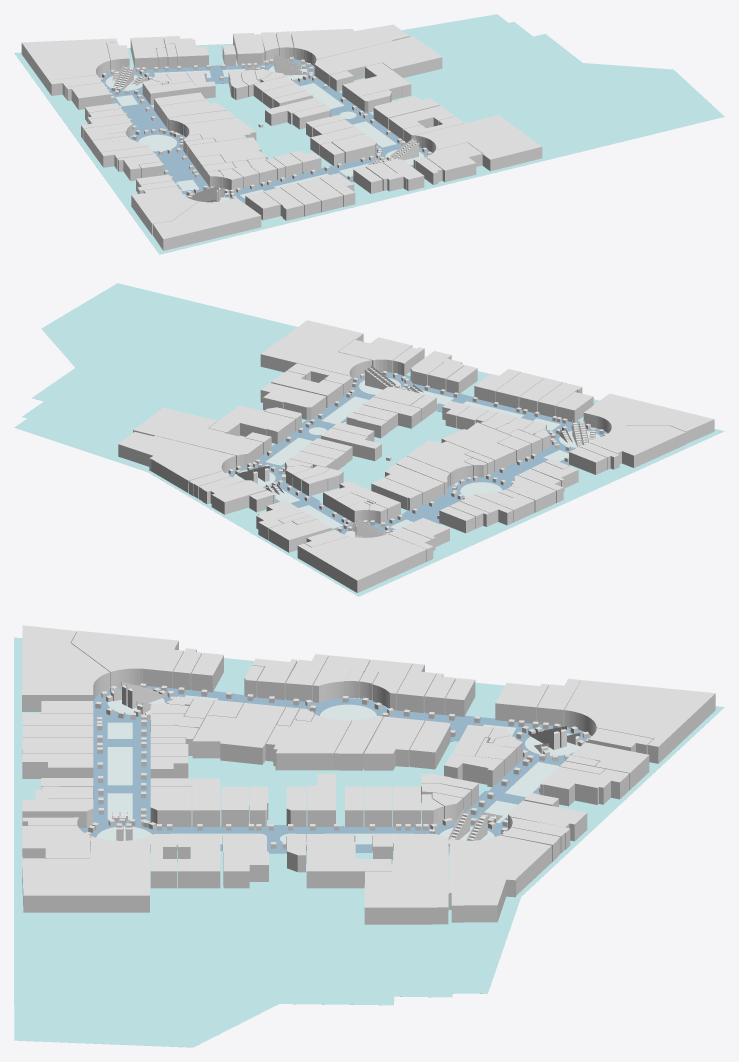
The model's file is PTA_01.gltf.
The picture shows the model from 3 angles, top to bottom: view 1: azimuth 30°, elevation 25°; view 2: azimuth 150°, elevation 25°; view 3: azimuth 270°, elevation 25°; orthographic projection. The views are drawn at different scales.
Parts seen in each view (by area): view 1: Floor, Walkable, Shop_01_P132, Shop_01_P147-148, Shop_01_P122-123, Shop_01_P109, Area, Shop_01_P121, Shop_01_P149-150, Shop_01_P125, Shop_01_P133, Shop_01_P242 (+45 smaller); view 2: Floor, Walkable, Shop_01_P109, Shop_01_P132, Shop_01_P121, Area, Shop_01_P122-123, Shop_01_P147-148, Shop_01_P149-150, Shop_01_P125, Shop_01_P242, Shop_01_P201 (+35 smaller); view 3: Floor, Walkable, Shop_01_P132, Shop_01_P109, Shop_01_P121, Shop_01_P122-123, Area, Shop_01_P147-148, Shop_01_P149-150, Shop_01_P242, Shop_01_P201, Shop_01_P125 (+47 smaller).
Part boxes in pixels (left/top/right/bottom): Floor: left=14, top=14, right=724, bottom=254; Walkable: left=99, top=59, right=432, bottom=203; Shop_01_P132: left=415, top=115, right=542, bottom=171; Shop_01_P147-148: left=153, top=198, right=261, bottom=250; Shop_01_P122-123: left=314, top=36, right=442, bottom=86; Shop_01_P109: left=21, top=38, right=116, bottom=91; Area: left=105, top=66, right=424, bottom=201; Shop_01_P121: left=291, top=24, right=409, bottom=66; Shop_01_P149-150: left=131, top=186, right=198, bottom=235; Shop_01_P125: left=342, top=63, right=411, bottom=107; Shop_01_P133: left=426, top=142, right=482, bottom=182; Shop_01_P242: left=188, top=137, right=267, bottom=168; Floor: left=14, top=283, right=724, bottom=596; Walkable: left=227, top=372, right=607, bottom=534; Shop_01_P109: left=297, top=534, right=426, bottom=592; Shop_01_P132: left=260, top=320, right=371, bottom=379; Shop_01_P121: left=118, top=431, right=235, bottom=492; Area: left=233, top=378, right=600, bottom=536; Shop_01_P122-123: left=133, top=407, right=263, bottom=466; Shop_01_P147-148: left=583, top=393, right=714, bottom=443; Shop_01_P149-150: left=589, top=425, right=685, bottom=467; Shop_01_P125: left=208, top=405, right=295, bottom=444; Shop_01_P242: left=441, top=422, right=515, bottom=471; Shop_01_P201: left=407, top=440, right=472, bottom=484; Floor: left=14, top=637, right=724, bottom=1047; Walkable: left=79, top=685, right=591, bottom=854; Shop_01_P132: left=22, top=836, right=149, bottom=912; Shop_01_P109: left=564, top=680, right=715, bottom=763; Shop_01_P121: left=449, top=835, right=551, bottom=922; Shop_01_P122-123: left=364, top=834, right=448, bottom=924; Area: left=96, top=695, right=580, bottom=847; Shop_01_P147-148: left=22, top=625, right=110, bottom=711; Shop_01_P149-150: left=71, top=630, right=183, bottom=688; Shop_01_P242: left=192, top=703, right=285, bottom=764; Shop_01_P201: left=266, top=714, right=351, bottom=770; Shop_01_P125: left=306, top=834, right=391, bottom=888.
Bounding box in the file's own units: 27073 × 1104 × 19827.
